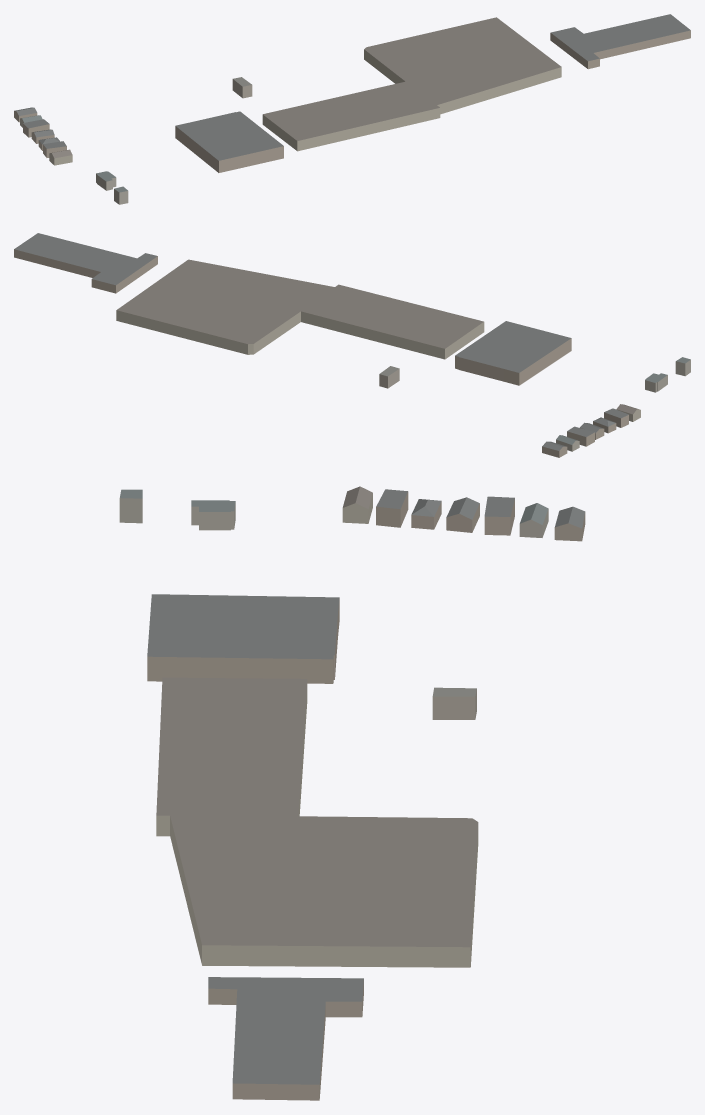
File: b8fd2419ec79-chunk-1198_11837.glb
3 views of the same model, one above another, from view 1: azimuth 30°, elevation 25°; view 2: azimuth 150°, elevation 25°; view 3: azimuth 270°, elevation 25° (orthographic). The views are drawn at different scales.
Parts seen in each view (by area): view 1: building_88371, building_92411, building_44424, building_3807, building_141153, building_98593; view 2: building_88371, building_92411, building_44424, building_98593, building_3807, building_141153; view 3: building_88371, building_92411, building_44424, building_3807, building_141153, building_98593, building_109243, building_99960, building_126569, building_97136.
Part boxes in pixels (x1=…): building_88371: x1=262, y1=17, x2=561, y2=151; building_92411: x1=175, y1=111, x2=283, y2=172; building_44424: x1=550, y1=14, x2=690, y2=69; building_3807: x1=232, y1=77, x2=252, y2=98; building_141153: x1=96, y1=171, x2=116, y2=190; building_98593: x1=23, y1=119, x2=49, y2=137; building_88371: x1=116, y1=259, x2=484, y2=359; building_92411: x1=455, y1=321, x2=571, y2=385; building_44424: x1=14, y1=233, x2=157, y2=293; building_98593: x1=567, y1=426, x2=594, y2=446; building_3807: x1=379, y1=366, x2=399, y2=388; building_141153: x1=645, y1=373, x2=667, y2=392; building_88371: x1=156, y1=677, x2=478, y2=967; building_92411: x1=147, y1=594, x2=339, y2=683; building_44424: x1=208, y1=977, x2=363, y2=1100; building_3807: x1=432, y1=687, x2=476, y2=719; building_141153: x1=191, y1=500, x2=235, y2=530; building_98593: x1=484, y1=496, x2=514, y2=535; building_109243: x1=376, y1=489, x2=408, y2=527; building_99960: x1=342, y1=486, x2=372, y2=523; building_126569: x1=446, y1=497, x2=479, y2=532; building_97136: x1=554, y1=506, x2=585, y2=541.
Size of the model in its own units: 415 by 8.01 by 137.
